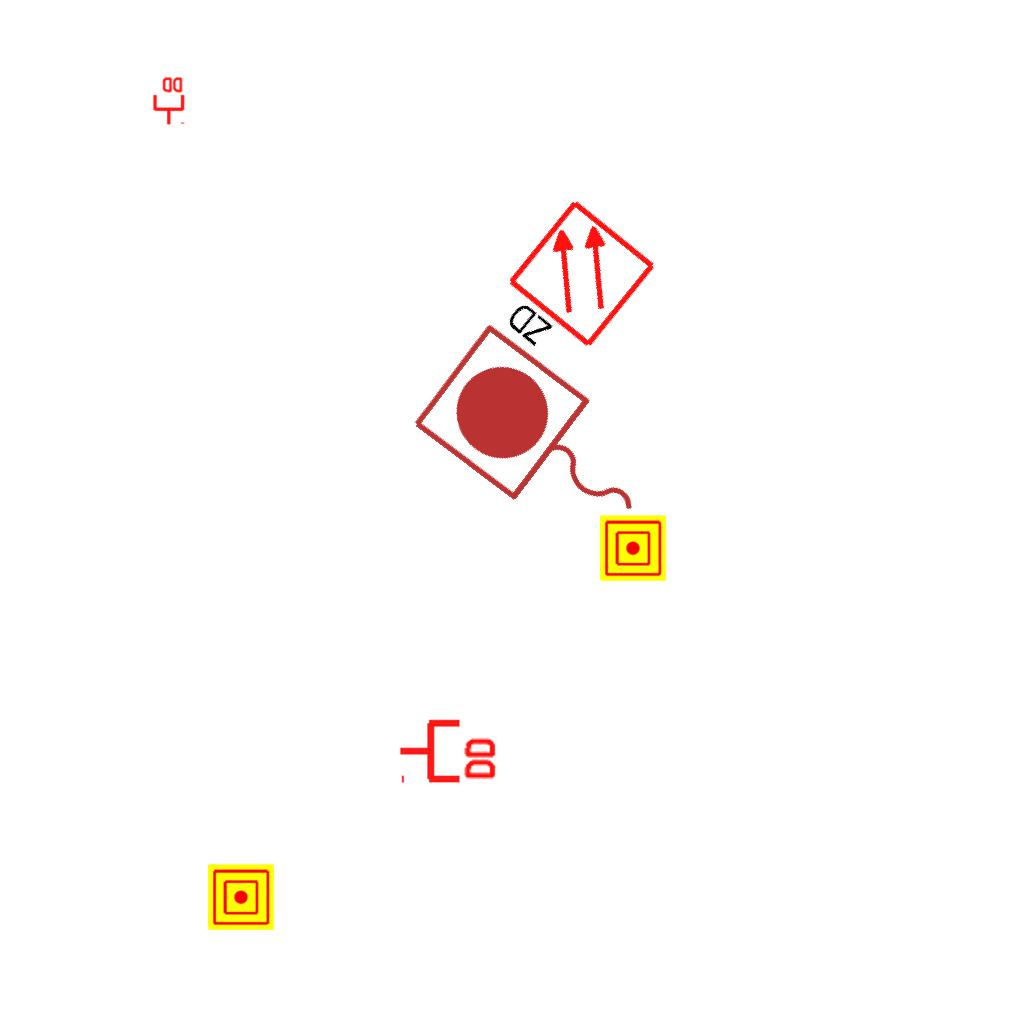Datenanschluss_zweifach: (397, 715, 500, 784), (151, 75, 185, 126)
NAM-Nichtautomatischer_Melder: (208, 864, 274, 930), (600, 515, 666, 581)
ZD_Melder_in_Zwischendecke_mit_Revisionsoeffnung_mind_40_x_40_cm: (479, 195, 663, 384)
Zugtaster: (400, 313, 682, 575)
